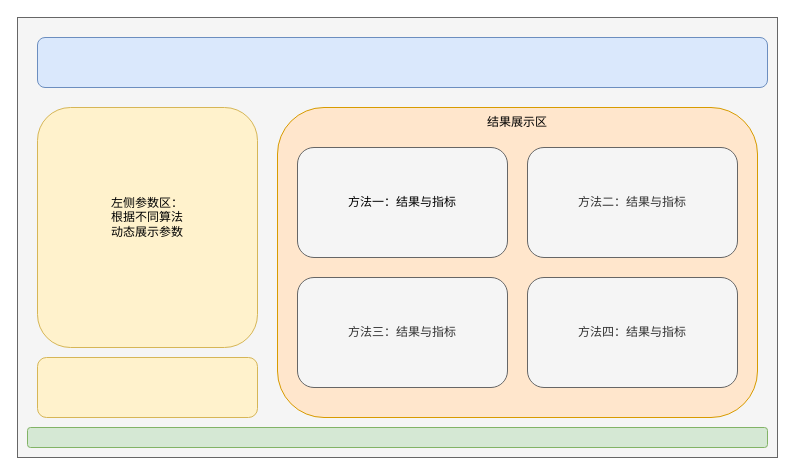
The diagram is 795 pixels wide and 475 high, and some of its shapes have lost their labels. Here are the shapes that lost their labels. From the top down, the centre of each, then its label:
the point at 402,62: 顶部区：展示系统名与导出结果按钮
the point at 147,387: 左侧操作区：对比模式与检测开关
the point at 397,437: 底部结果区：展示状态与结果
